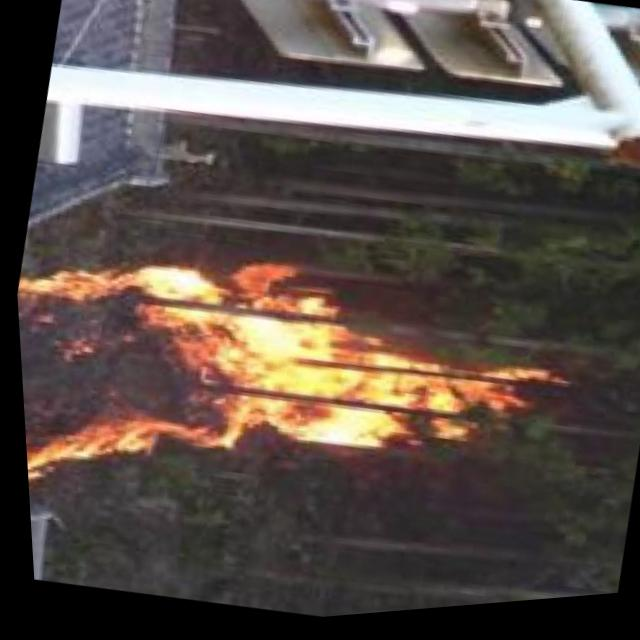Fire: (11, 211, 526, 559)
